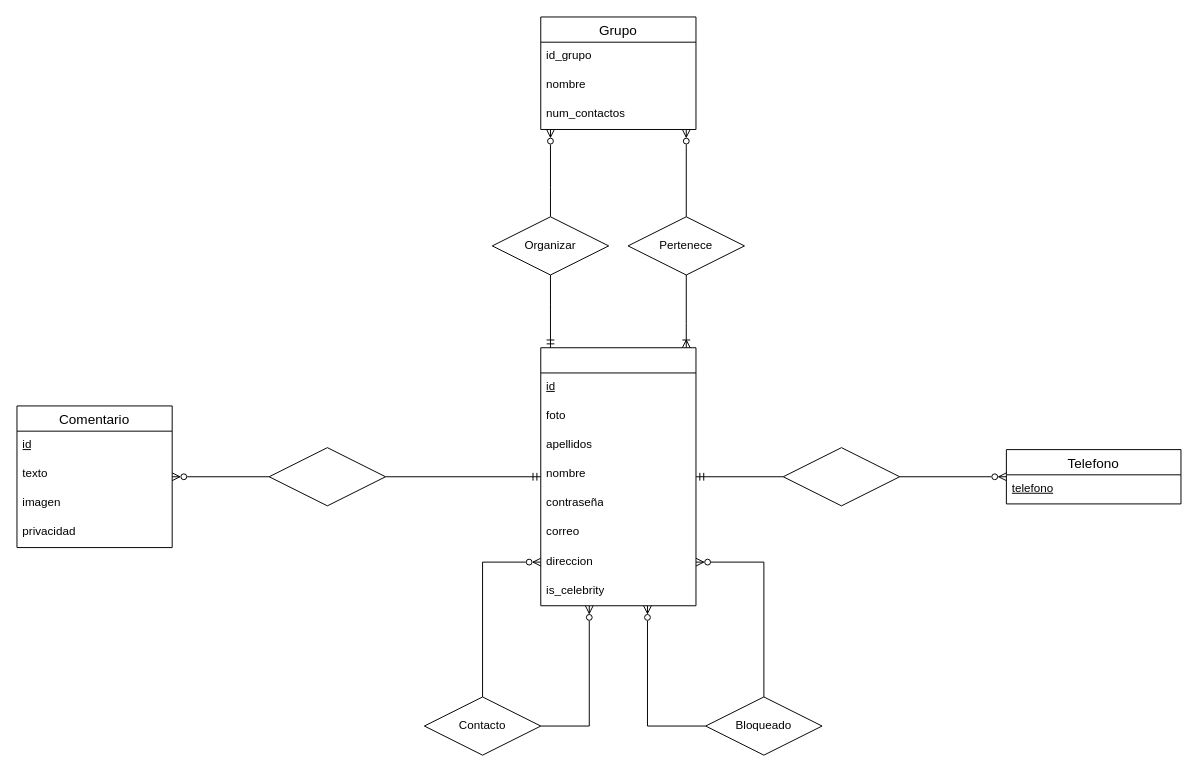
Image size: 1198x772. Some labels were removed from this diagram. Here are the shapes that lost their labels. From the top down, the box of each, then its label:
(268, 447, 386, 506): Comenta
(540, 347, 696, 606): Usuario
(782, 447, 900, 506): Tiene
